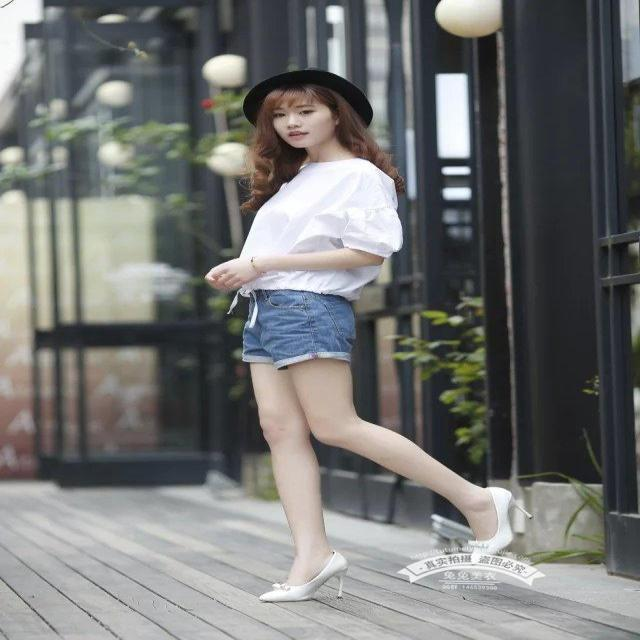short-sleeve-dress: (222, 160, 425, 292)
shorts: (212, 292, 378, 370)
